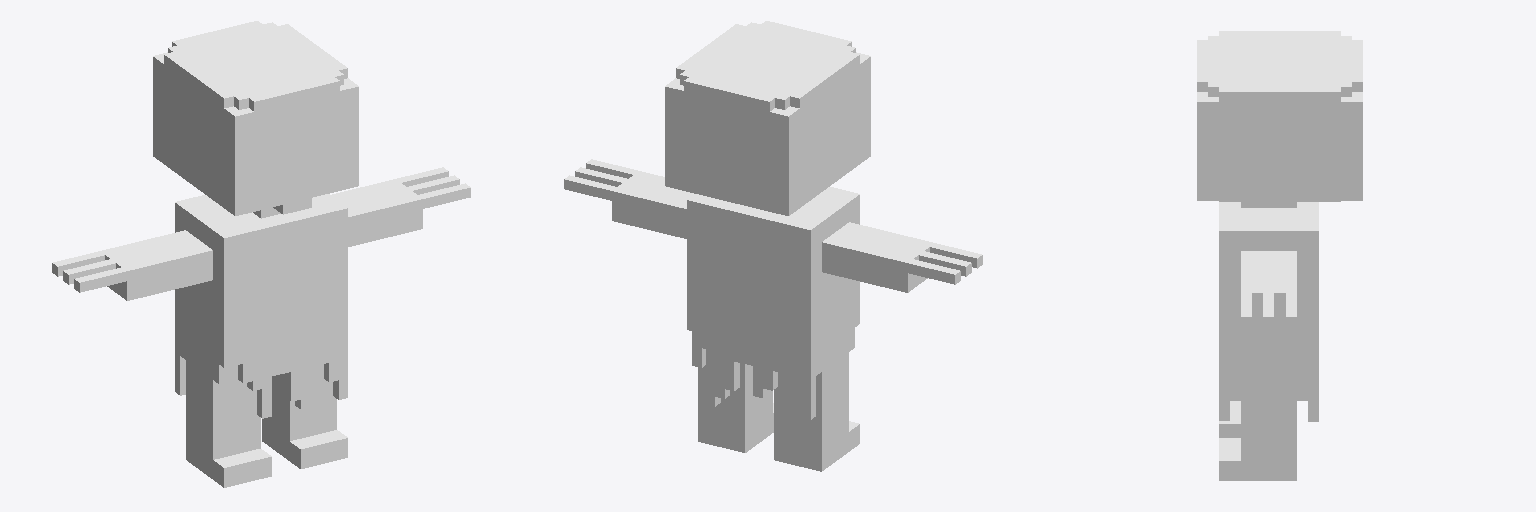
The model's file is Zombie_boss(2).obj.
3 views of the same model, side by side, from view 1: azimuth 30°, elevation 25°; view 2: azimuth 150°, elevation 25°; view 3: azimuth 270°, elevation 25° (orthographic).
Parts seen in each view (by area): view 1: object 1; view 2: object 1; view 3: object 1.
Boxes of the visible parts, x1,y1,x2,y2 form: object 1: [52, 21, 470, 487]; object 1: [564, 21, 982, 471]; object 1: [1197, 31, 1362, 480].
Bounding box in the file's own units: 4.1 × 3.9 × 1.5.